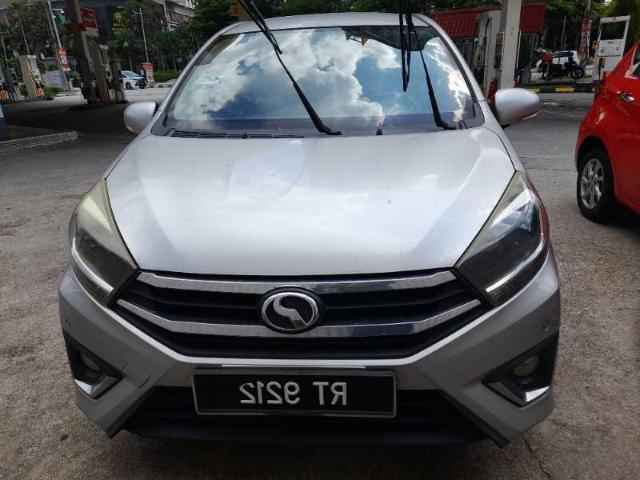License_Plate: (191, 369, 399, 419)
car: (58, 9, 562, 451)
